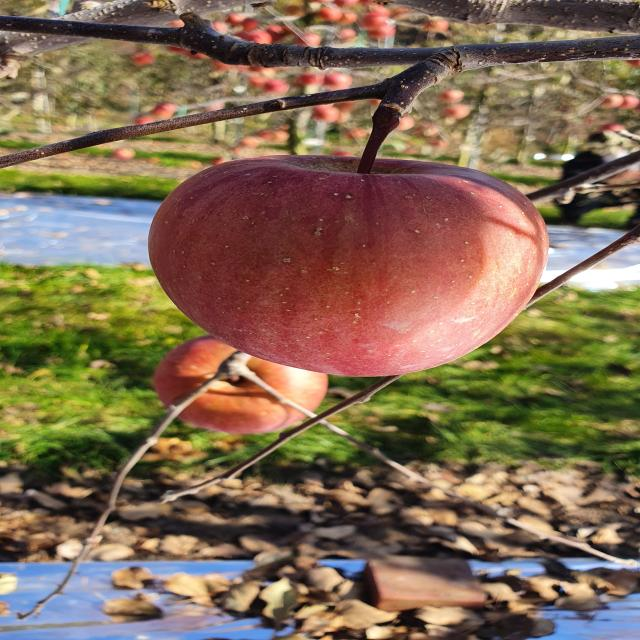fresh: (137, 144, 568, 389)
